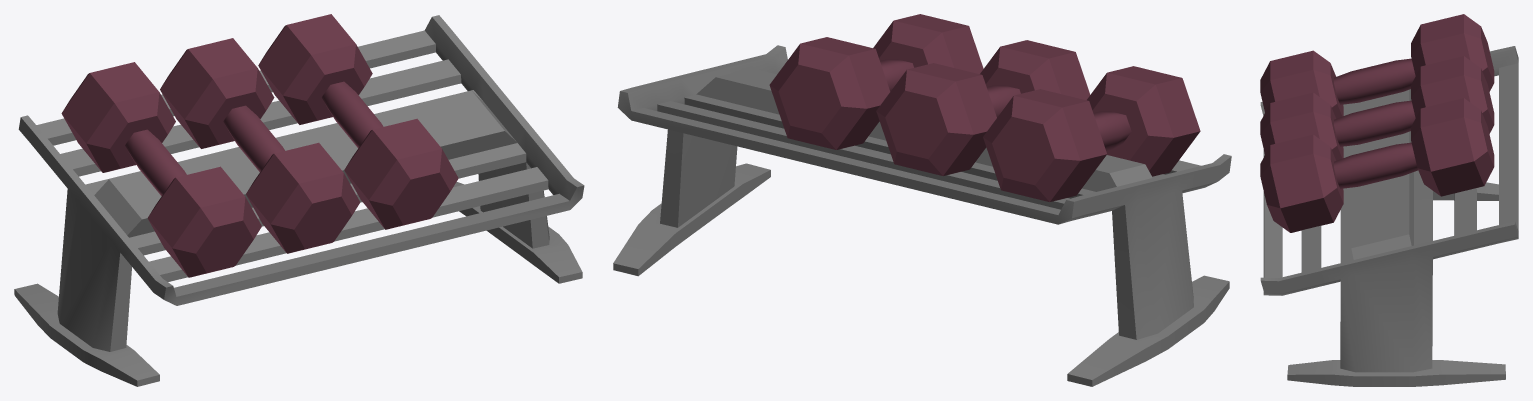
Rendered from Sm_DumbellRack.fbx.
3 views of the same model, side by side, from view 1: azimuth 30°, elevation 25°; view 2: azimuth 150°, elevation 25°; view 3: azimuth 270°, elevation 25° (orthographic). The views are drawn at different scales.
Parts seen in each view (by area): view 1: Dumbell Rack; view 2: Dumbell Rack; view 3: Dumbell Rack.
Boxes of the visible parts, x1=… form: Dumbell Rack: x1=14, y1=14, x2=584, y2=386; Dumbell Rack: x1=613, y1=14, x2=1231, y2=386; Dumbell Rack: x1=1260, y1=14, x2=1518, y2=386.
Bounding box in the file's own units: 111 × 50.69 × 59.53.
